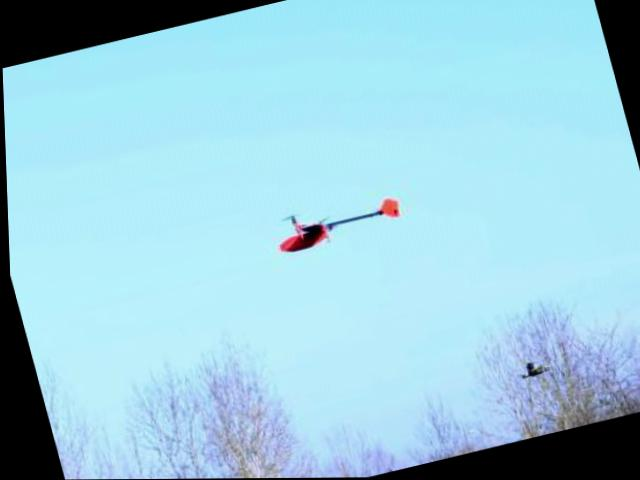uav: (257, 174, 415, 272)
